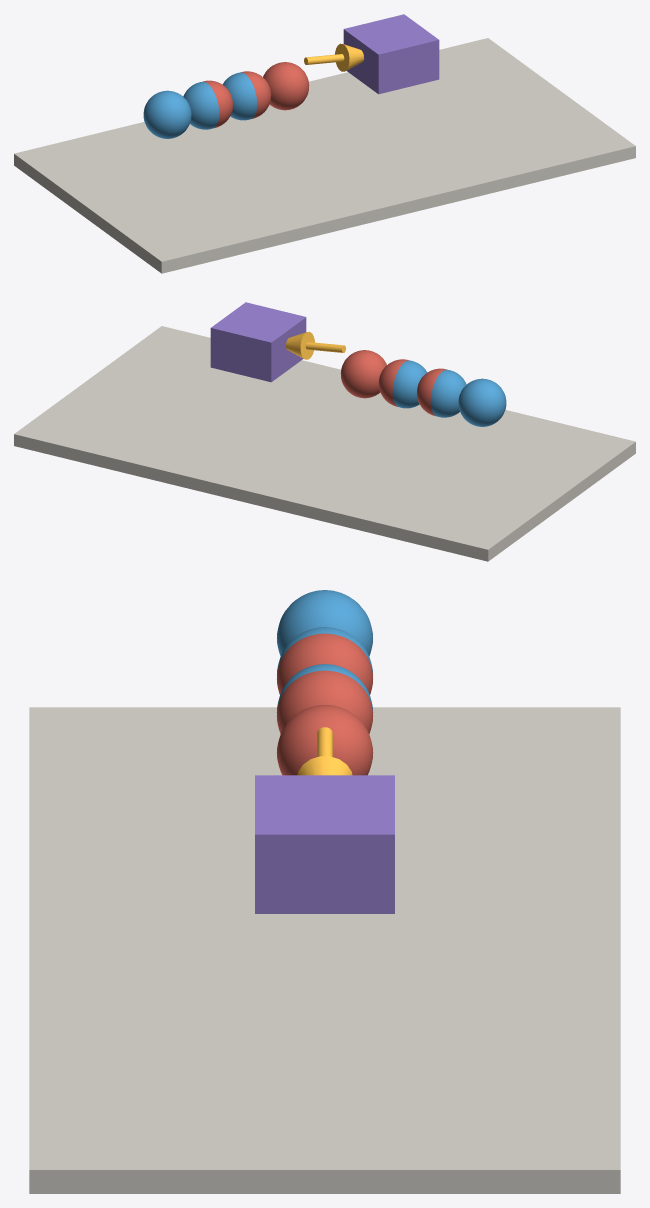
Rendered from chem-reaction-coefficient.glb.
3 views of the same model, one above another, from view 1: azimuth 30°, elevation 25°; view 2: azimuth 150°, elevation 25°; view 3: azimuth 270°, elevation 25° (orthographic). The views are drawn at different scales.
Visible parts, largest first — view 1: reaction-base, coefficient-multiplier-block, atom-1 (×3), atom-2 (×3), multiplies-whole-formula-head; view 2: reaction-base, coefficient-multiplier-block, atom-1 (×3), atom-2 (×3), multiplies-whole-formula-head; view 3: reaction-base, coefficient-multiplier-block, atom-2 (×3), atom-1, multiplies-whole-formula-head.
Boxes of the visible parts, x1,y1,x2,y2 form: reaction-base: (14,38,635,273); coefficient-multiplier-block: (343,14,439,94); atom-1 (×3): (143,72,257,138); atom-2 (×3): (203,62,309,128); multiplies-whole-formula-head: (335,43,364,71); reaction-base: (14,326,635,561); coefficient-multiplier-block: (210,302,306,382); atom-1 (×3): (392,360,506,426); atom-2 (×3): (340,350,446,416); multiplies-whole-formula-head: (285,331,314,359); reaction-base: (29,707,620,1193); coefficient-multiplier-block: (255,775,394,913); atom-2 (×3): (277,633,372,775); atom-1: (277,590,372,656); multiplies-whole-formula-head: (297,756,352,775).
Size of what is drawn, in the model's own units: 2.5 by 0.5661 by 1.35.
